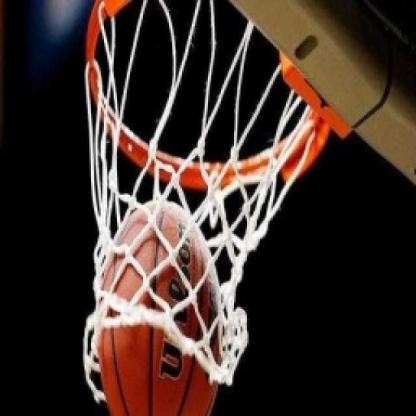basketball: (93, 197, 228, 416)
